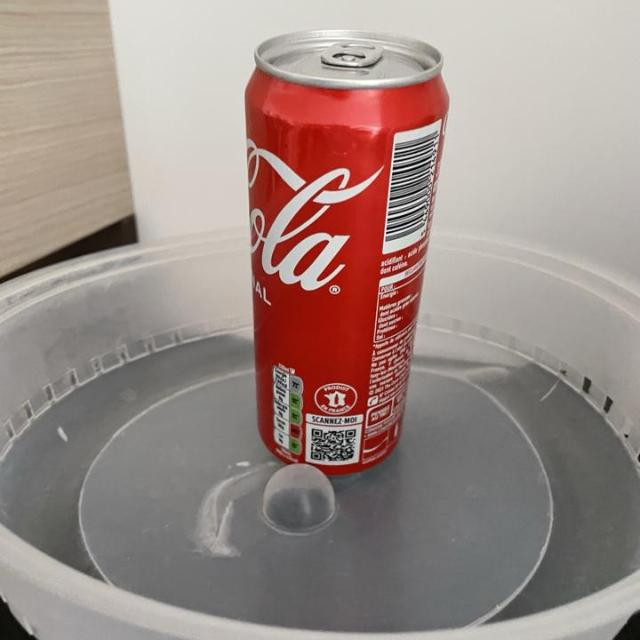can: (239, 14, 455, 493)
